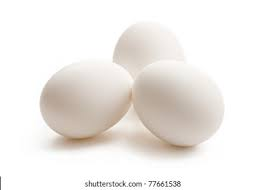eggs: (129, 58, 227, 149), (36, 56, 123, 135), (112, 13, 201, 88)
